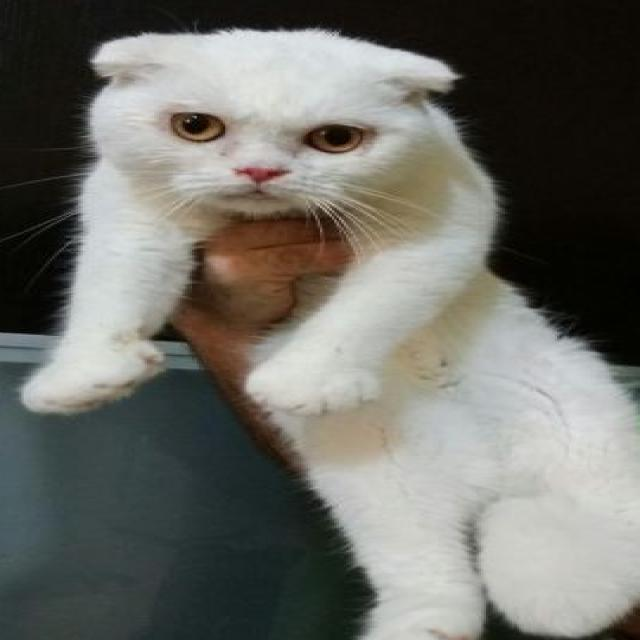Scottish Fold: (12, 22, 640, 640)
